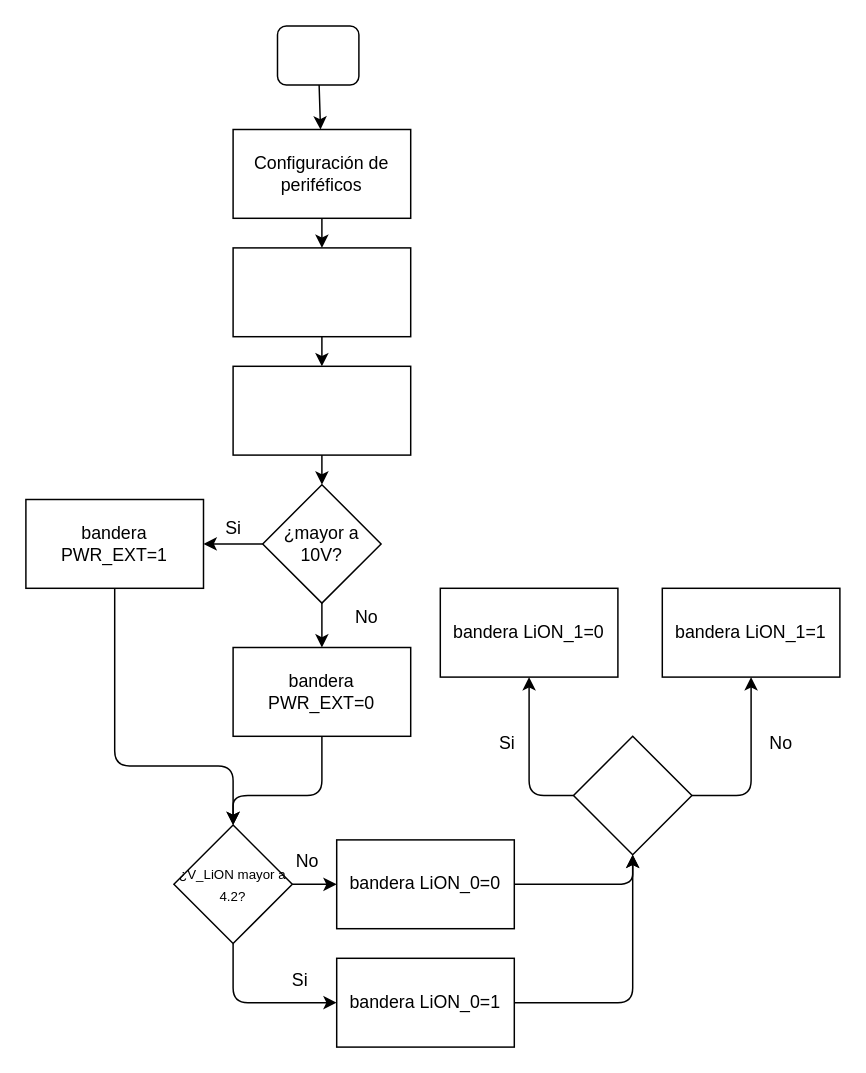
Image size: 866x1073. Some labels were removed from this diagram. The shapes that lost their labels are listed below. From the top down, each one's centre as x and y in pixels, then its label:
At [317,54]: "Inicio".
At [321,291]: "Activar interruptor para bateria NiMH".
At [321,410]: "Verificar voltaje de alimentación (ADC7)".
At [632,795]: "¿V_LiON menor a 3?".
